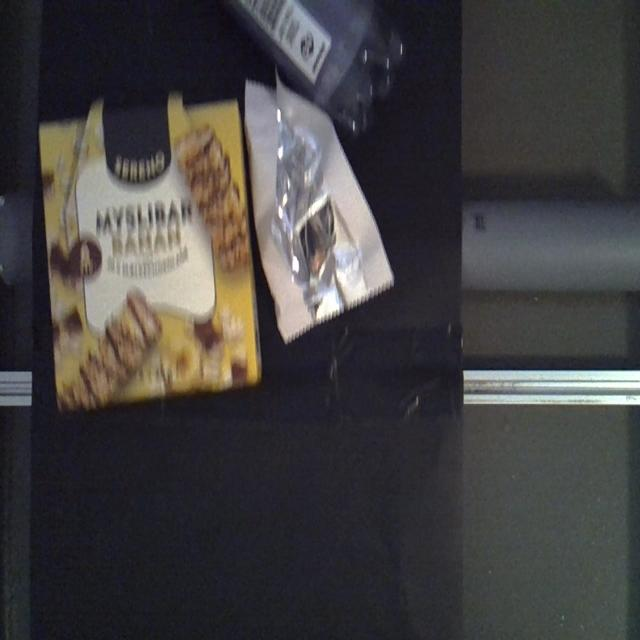bottle-plastic: (224, 0, 408, 136)
carton: (38, 89, 266, 416)
packaging-soft-plastic: (243, 74, 395, 344)
